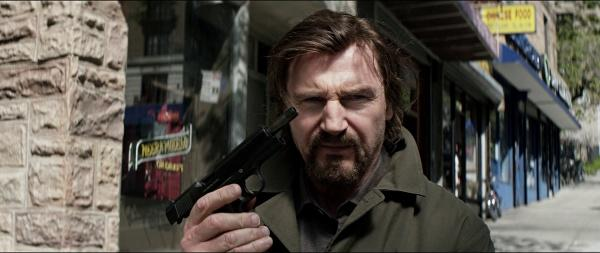Gun: (165, 105, 301, 227)
